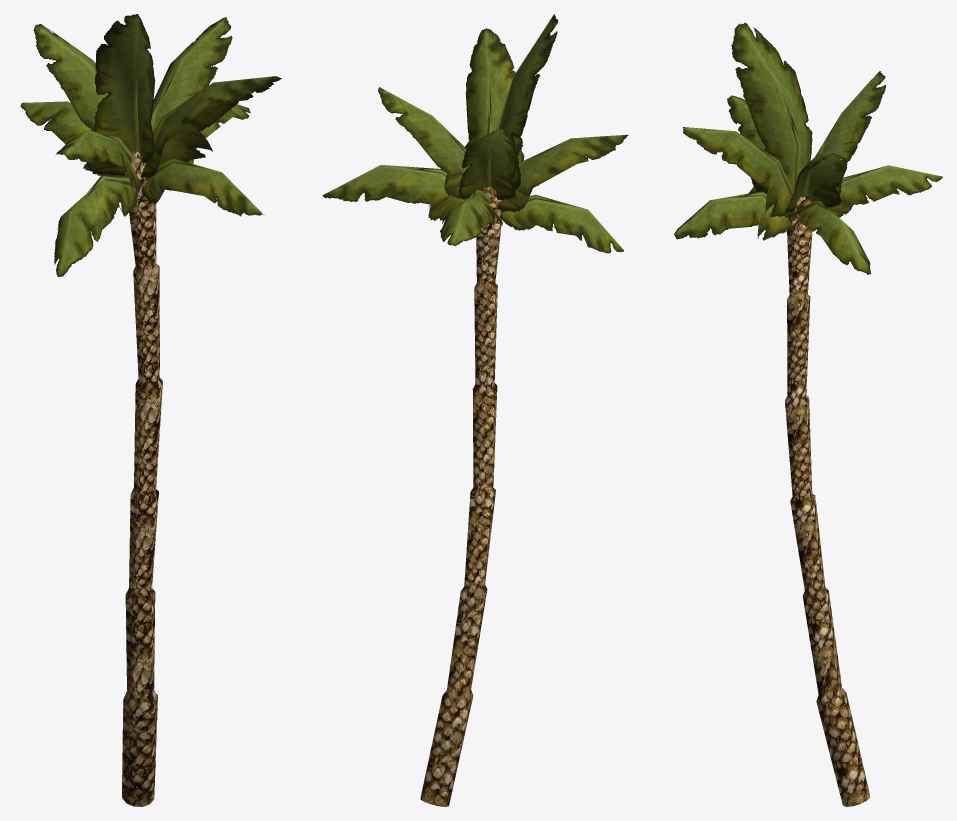
File: SM_TI_Palm_Tree_6.fbx
3 views of the same model, side by side, from view 1: azimuth 30°, elevation 25°; view 2: azimuth 150°, elevation 25°; view 3: azimuth 270°, elevation 25° (orthographic). The views are drawn at different scales.
Parts seen in each view (by area): view 1: SM_TI_Palm_Tree_6; view 2: SM_TI_Palm_Tree_6; view 3: SM_TI_Palm_Tree_6.
Part boxes in pixels (bbox=[...]): SM_TI_Palm_Tree_6: bbox=[20, 14, 281, 806]; SM_TI_Palm_Tree_6: bbox=[322, 14, 628, 806]; SM_TI_Palm_Tree_6: bbox=[674, 23, 942, 806].
Size of the model in its own units: 2.81 by 2.72 by 8.16.
